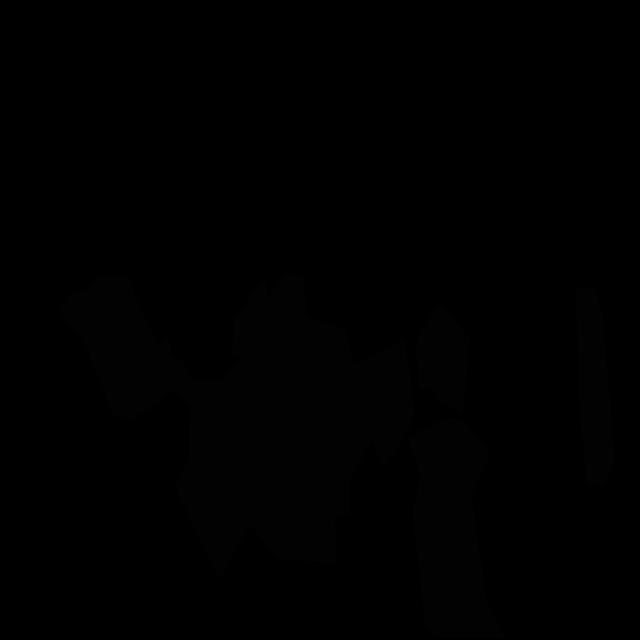cardboard: (174, 272, 416, 580), (407, 417, 507, 639), (59, 274, 191, 419), (576, 287, 615, 486), (416, 304, 470, 417)
